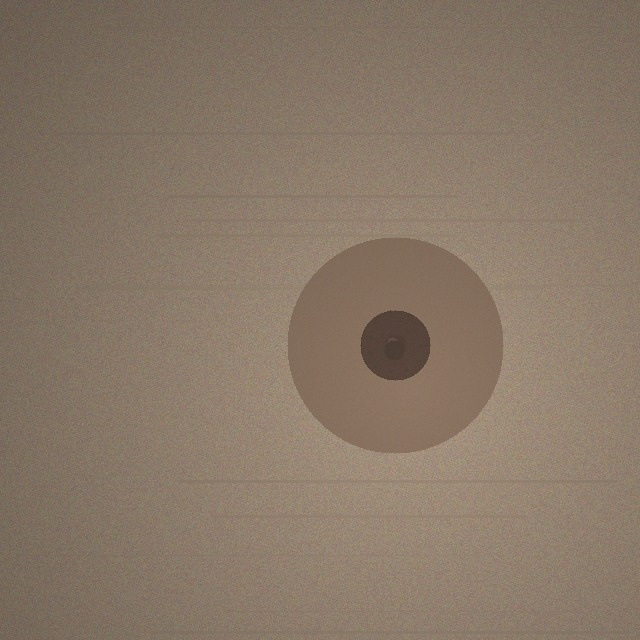cold_weld: (287, 237, 503, 453)
